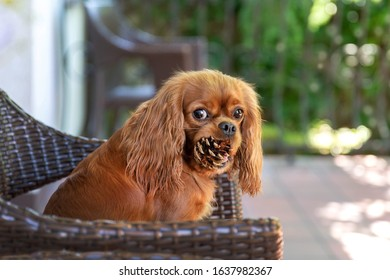Pc: (196, 134, 230, 172)
